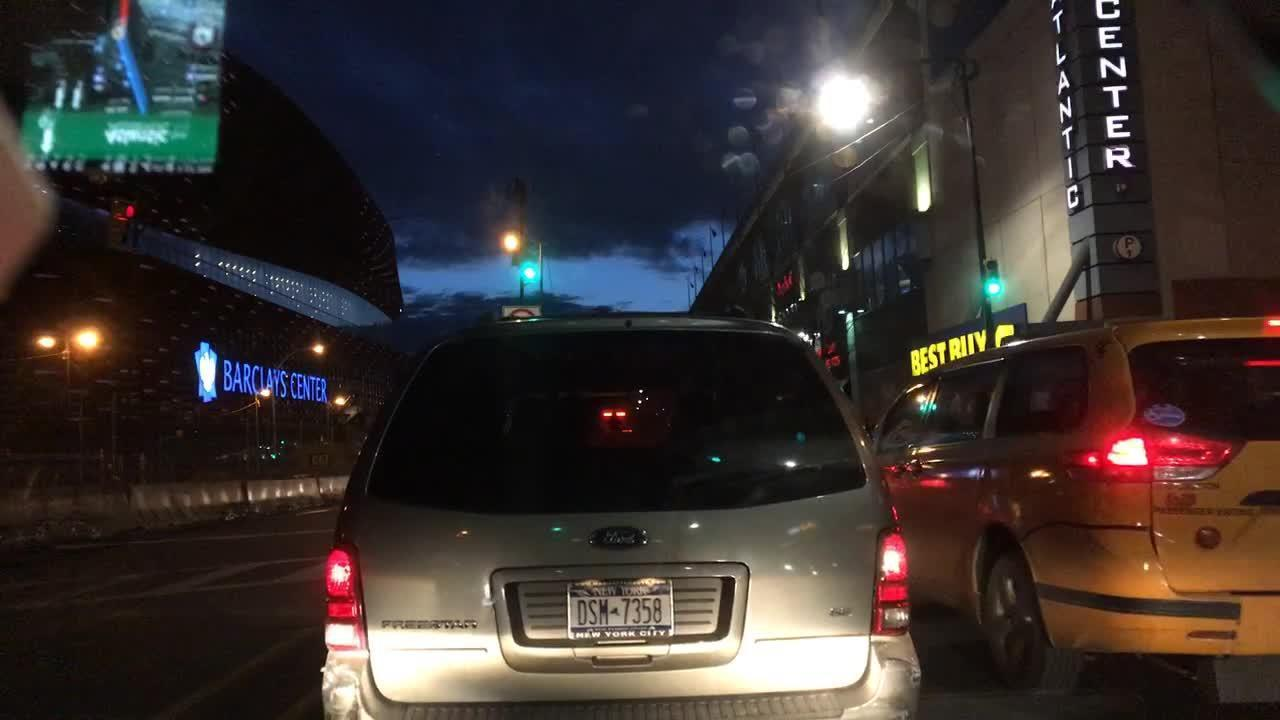ford: (586, 513, 647, 558)
